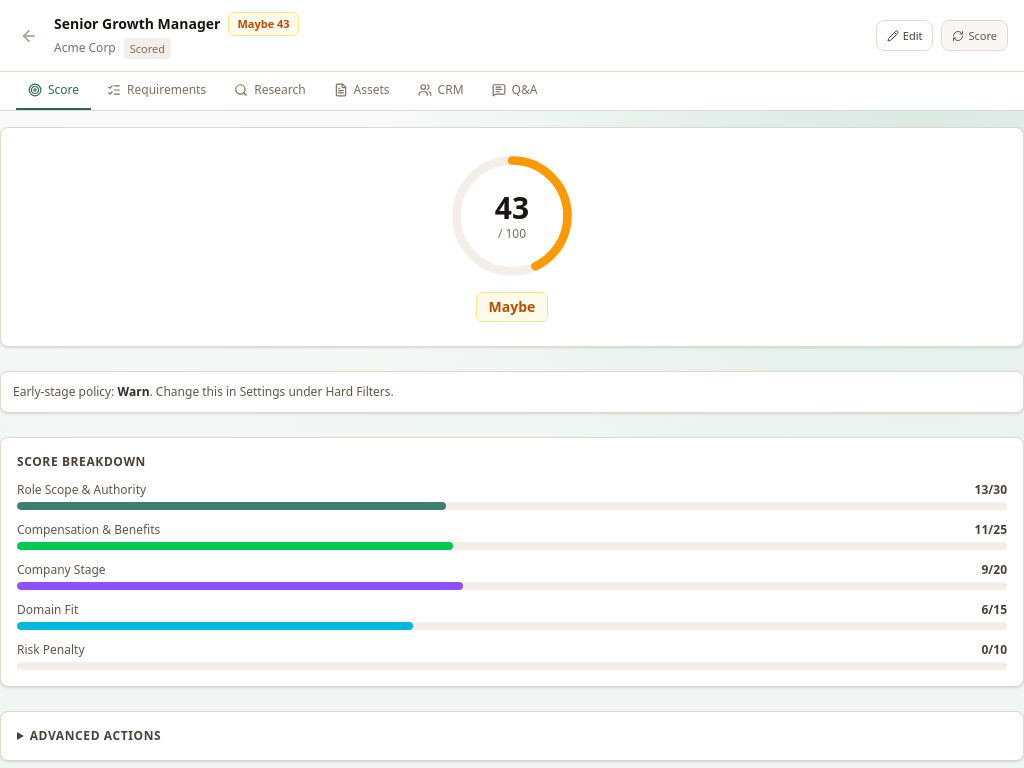
Scenario: JobWorkspacePage mobile overflow guardrails › opens the edit job modal from the score header
Click the button "Edit" at (905, 36), box [876,20,934,51]
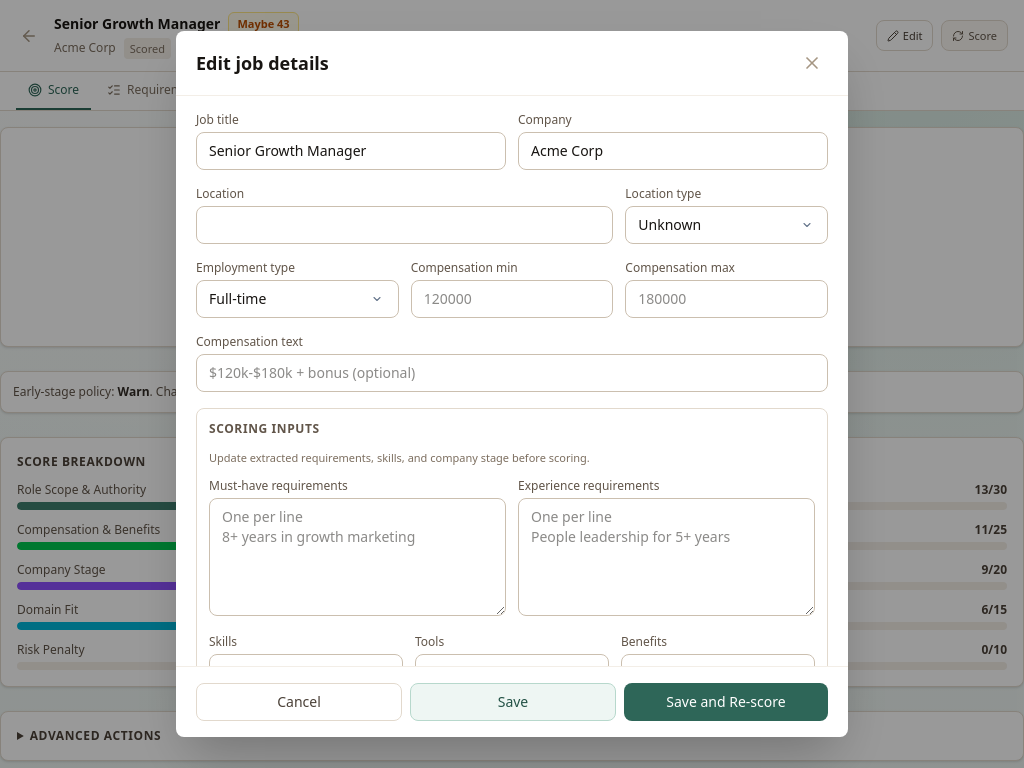
Now the heading "Edit job details" is shown, box [196,49,329,77]
Now the heading "Scoring inputs" is shown, box [209,420,320,437]
Now the text "Must-have requirements" is shown, box [209,477,348,494]
